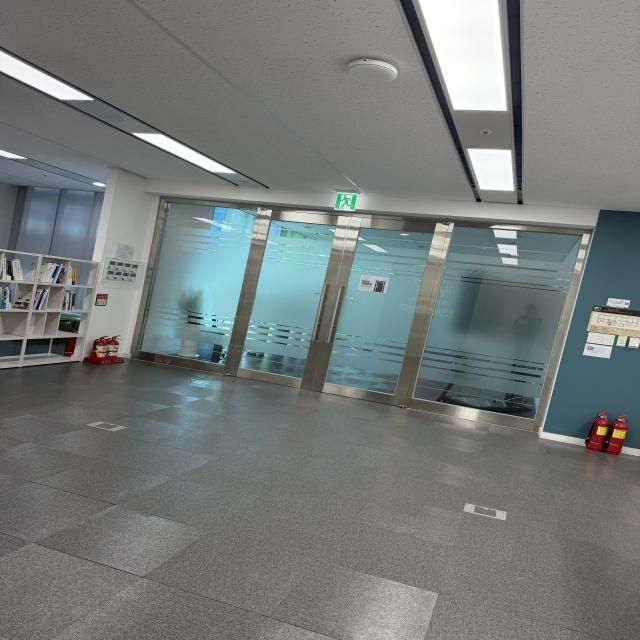front_door: (132, 196, 592, 433)
